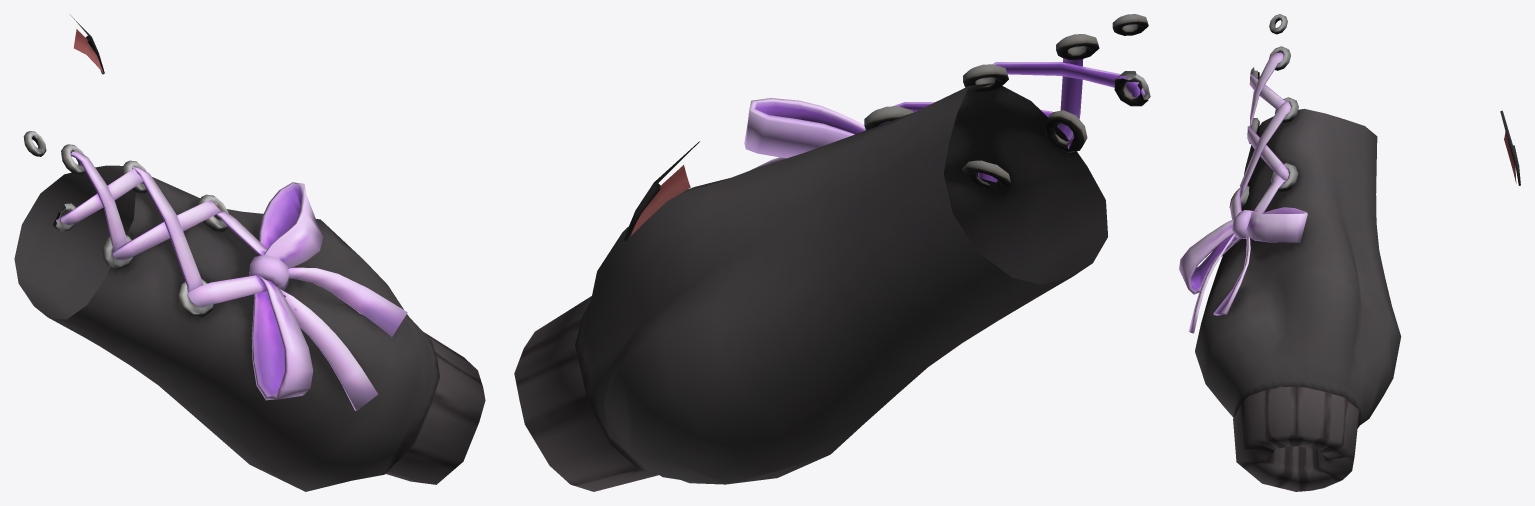
File: arm_lower_L.obj
3 renders of one model, left to right at view 1: azimuth 30°, elevation 25°; view 2: azimuth 150°, elevation 25°; view 3: azimuth 270°, elevation 25°, orthographic. The views are drawn at different scales.
Visible parts, largest first — view 1: arm_lower_L; view 2: arm_lower_L; view 3: arm_lower_L.
Boxes of the visible parts, x1,y1,x2,y2 form: arm_lower_L: [14, 15, 485, 491]; arm_lower_L: [514, 14, 1150, 491]; arm_lower_L: [1179, 14, 1520, 491].
Size of the model in its own units: 0.3327 by 0.3134 by 0.2896.
1 material, 1 textured.
